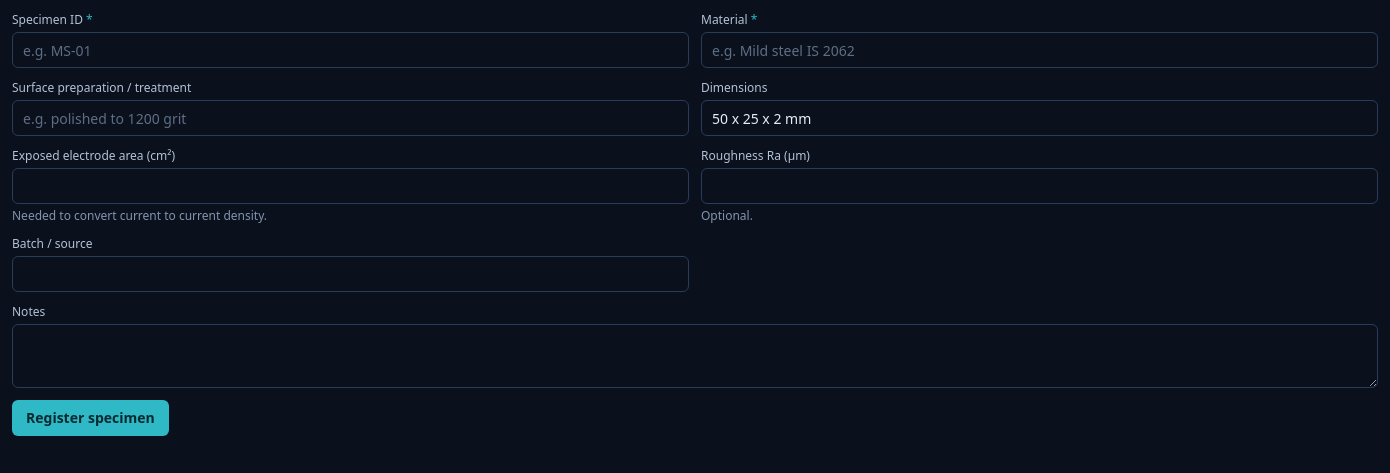
specimen and experiment forms › validates required identifiers and the reserved demo prefix
Click the button "Register specimen".
click(90, 418)  # box [12,400,169,436]
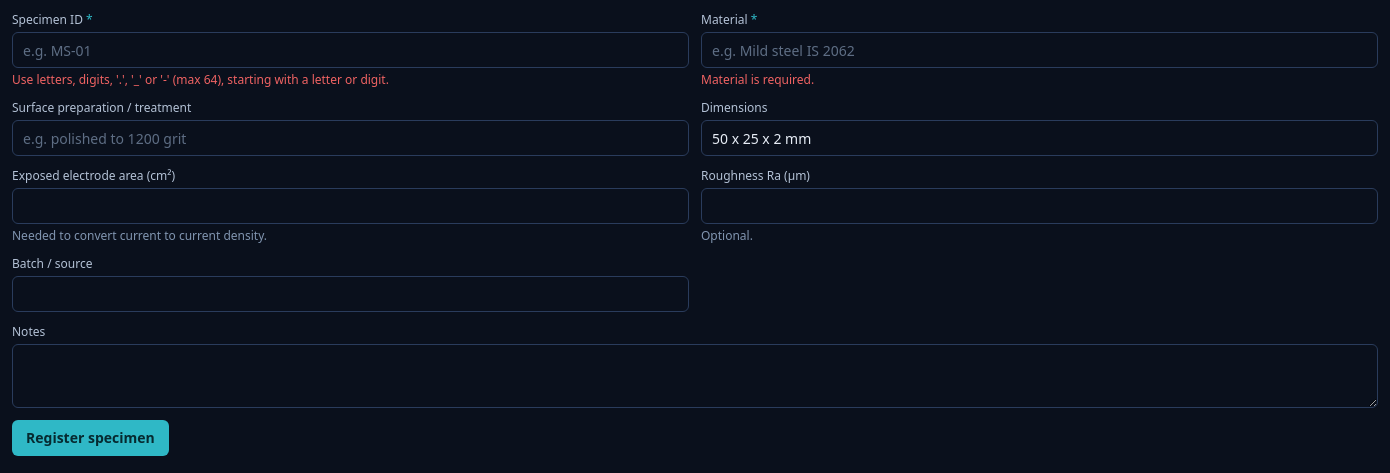
Check: the text "Material is required." is shown, box [701,71,814,88]
Type "DEMO-7" into the field labelled "Specimen ID *".
click(350, 50); type("DEMO-7")  # box [12,32,689,68]
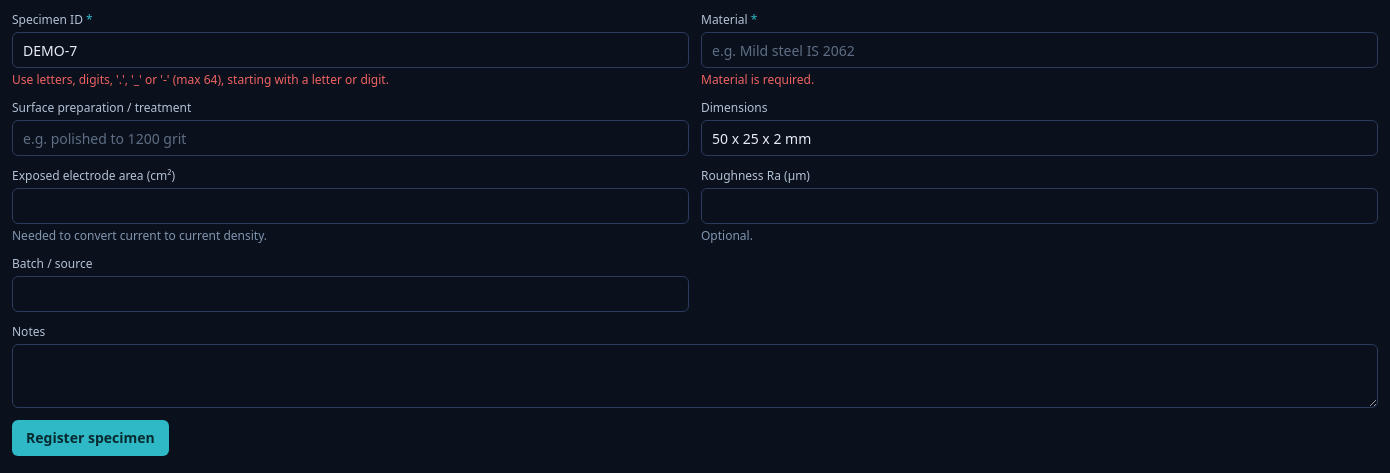
Click the button "Register specimen".
click(90, 438)  # box [12,420,169,456]
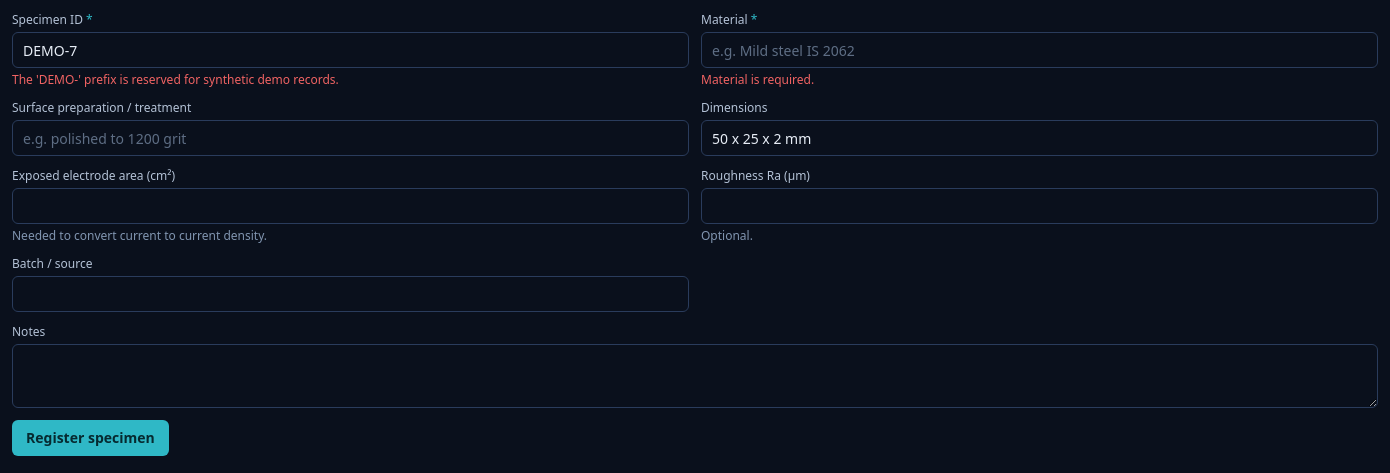
Check: the text "The 'DEMO-' prefix is reserved for synthetic demo records." is shown, box [12,71,339,88]
